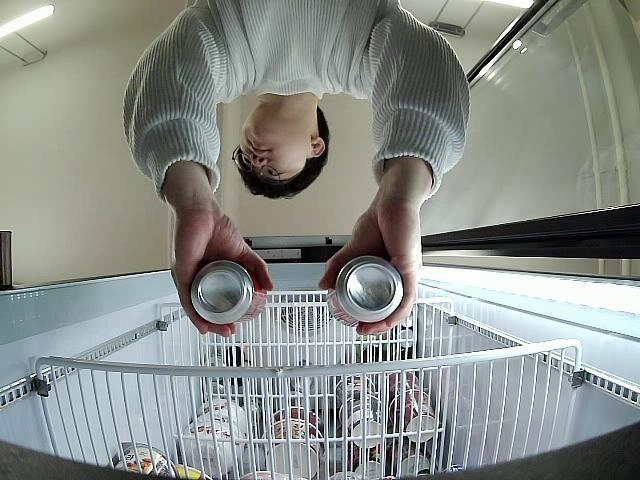11_cocaColaZero: (327, 255, 402, 327), (190, 262, 265, 324)
